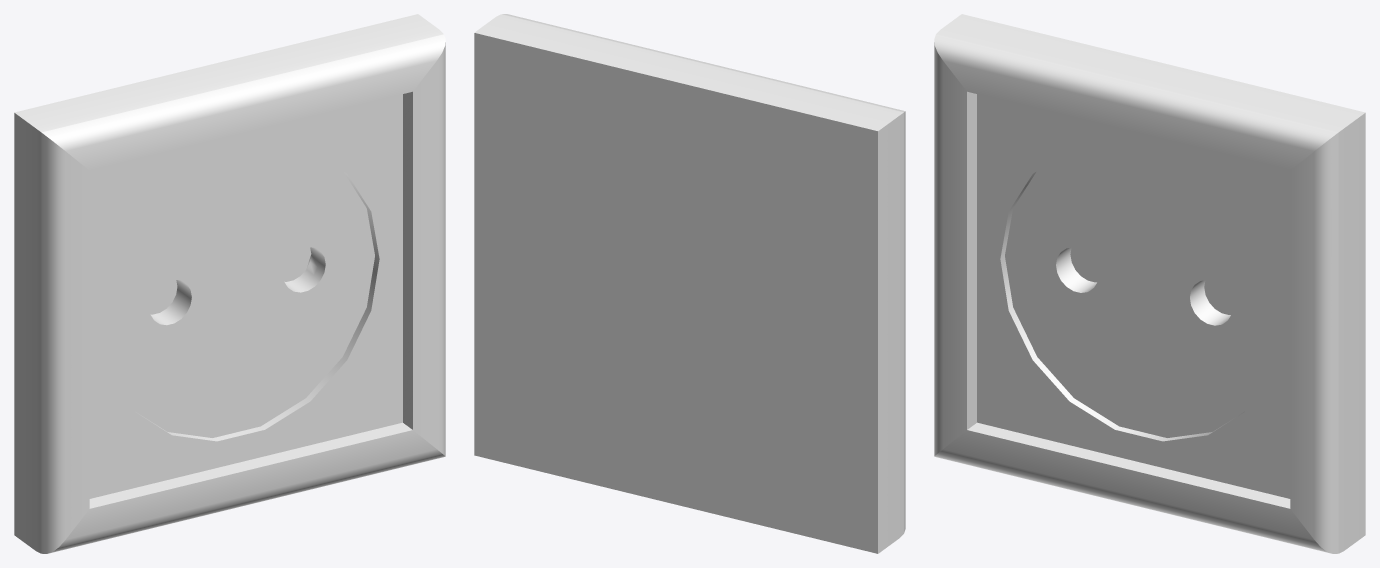
The model's file is Socket.fbx.
The picture shows the model from 3 angles, left to right: view 1: azimuth 30°, elevation 25°; view 2: azimuth 150°, elevation 25°; view 3: azimuth 330°, elevation 25°; orthographic projection.
Parts seen in each view (by area): view 1: Socket; view 2: Socket; view 3: Socket.
Part boxes in pixels (x1,y1,x2,y2): Socket: (14, 14, 445, 553); Socket: (474, 14, 905, 553); Socket: (934, 14, 1365, 553).
Bounding box in the file's own units: 8.17 × 8.17 × 1.23.
